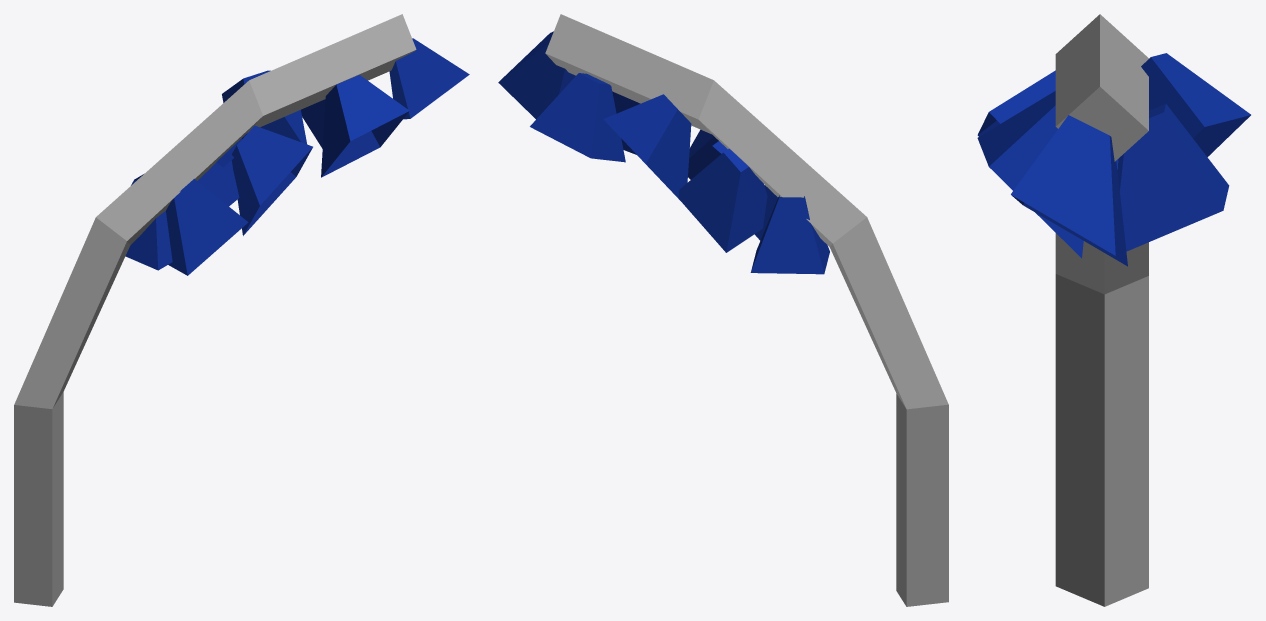
Rendered from bluebell.obj.
3 renders of one model, left to right at view 1: azimuth 30°, elevation 25°; view 2: azimuth 150°, elevation 25°; view 3: azimuth 270°, elevation 25°, orthographic. The views are drawn at different scales.
Visible parts, largest first — view 1: Cube.001_Cube.027; view 2: Cube.001_Cube.027; view 3: Cube.001_Cube.027.
Boxes of the visible parts, <box> form: Cube.001_Cube.027: <box>14,14,469,606</box>; Cube.001_Cube.027: <box>498,14,948,606</box>; Cube.001_Cube.027: <box>977,14,1250,606</box>.
Size of the model in its own units: 0.0927 by 0.0981 by 0.0312.
